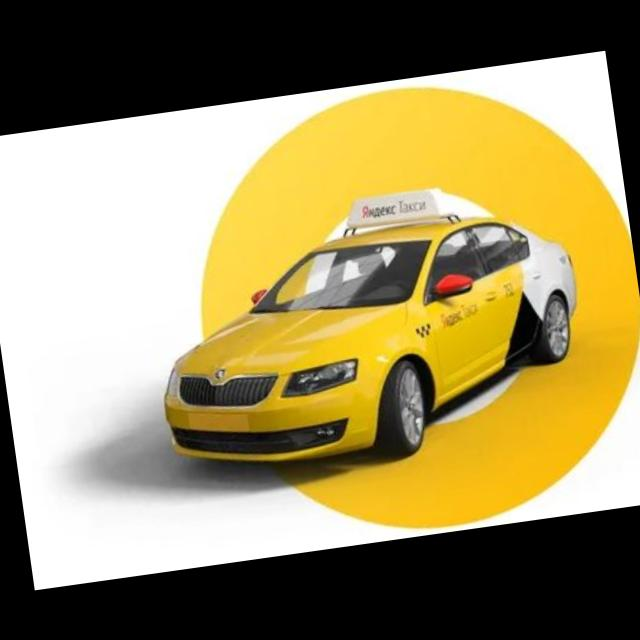taxi: (140, 167, 598, 489)
